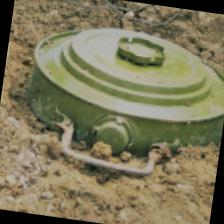TM-46: (0, 3, 224, 189)
